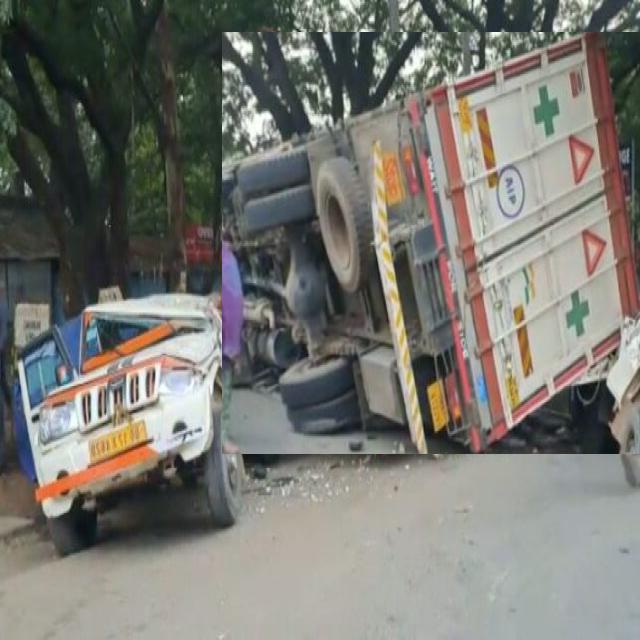accident: (222, 32, 640, 454), (18, 295, 255, 554)
